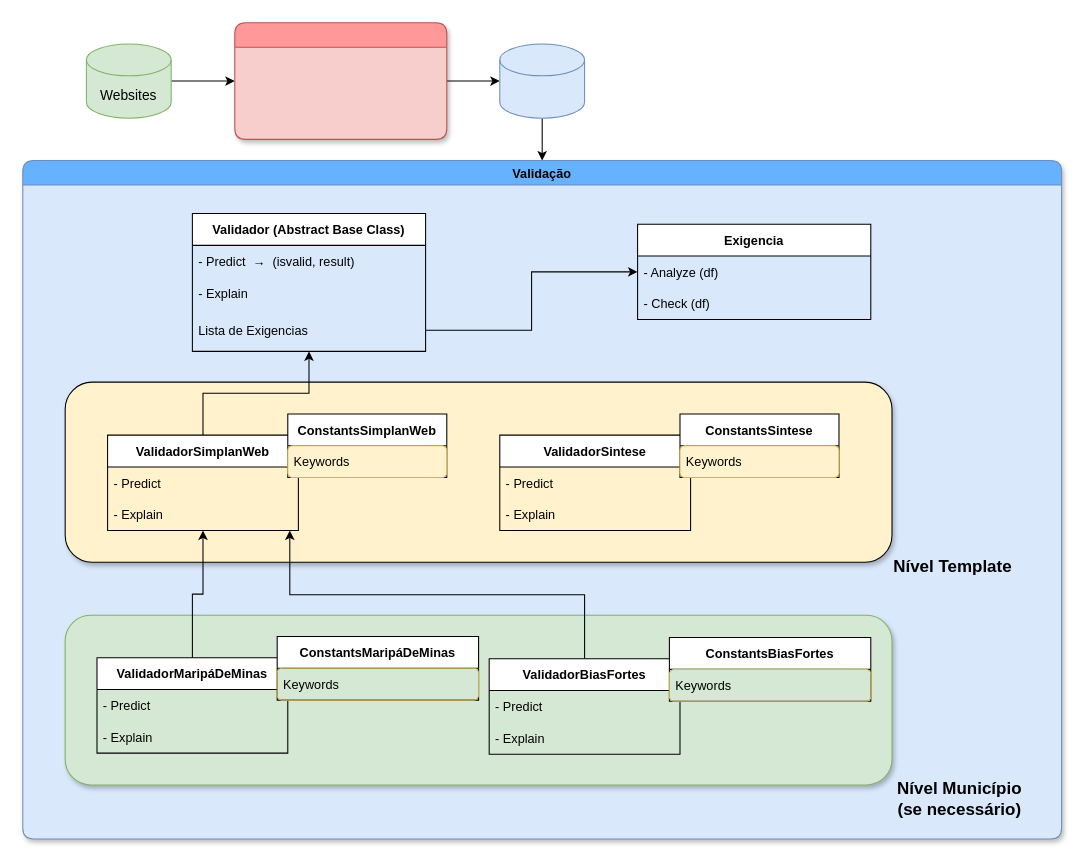
The diagram is 1087 pixels wide and 865 high, and some of its shapes have lost their labels. The centre of each missing label's shape, as x and y in pixels:
"Coleta" goes at (x=341, y=82).
"Índice" goes at (x=542, y=80).
